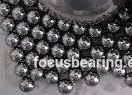ironball: (26, 0, 131, 25), (17, 75, 34, 93), (45, 68, 62, 85), (67, 45, 85, 61), (100, 35, 119, 49), (57, 79, 76, 93), (29, 67, 45, 83), (83, 70, 100, 85), (9, 6, 26, 21), (8, 46, 23, 62), (106, 19, 122, 34), (19, 37, 36, 51), (33, 40, 50, 54), (51, 41, 66, 56), (26, 10, 41, 25), (14, 62, 29, 77), (106, 46, 121, 61), (76, 37, 92, 51), (0, 18, 16, 32), (117, 6, 131, 22), (31, 26, 46, 40), (62, 30, 76, 45), (70, 66, 84, 81), (111, 63, 126, 77), (47, 27, 60, 43), (4, 32, 19, 45), (118, 35, 130, 51), (41, 13, 57, 25), (18, 23, 32, 36), (72, 25, 87, 37), (0, 2, 11, 18), (88, 25, 101, 38), (91, 47, 104, 59), (57, 18, 71, 29), (123, 71, 132, 86), (7, 0, 22, 5)
